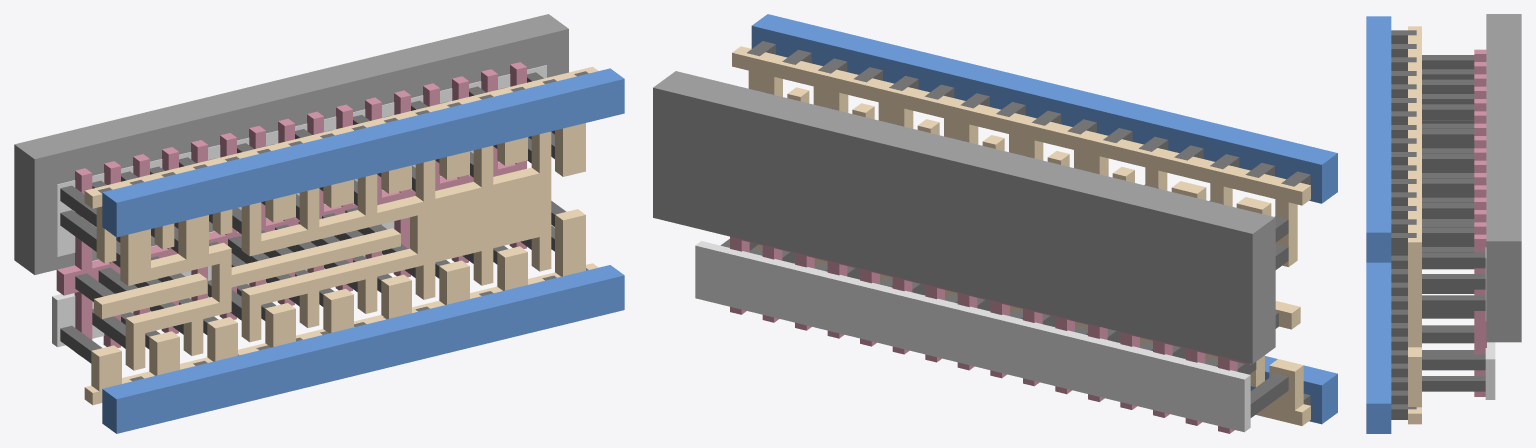
The model's file is sky130_fd_sc_hd__buf_12.gds.gltf.
3 views of the same model, side by side, from view 1: azimuth 30°, elevation 25°; view 2: azimuth 150°, elevation 25°; view 3: azimuth 270°, elevation 25° (orthographic). The views are drawn at different scales.
Visible parts, largest first — view 1: sky130_fd_sc_hd__buf_12_li1, sky130_fd_sc_hd__buf_12_met1, sky130_fd_sc_hd__buf_12_nwell, sky130_fd_sc_hd__buf_12_poly, sky130_fd_sc_hd__buf_12_licon, sky130_fd_sc_hd__buf_12_diff, sky130_fd_sc_hd__buf_12_mcon; view 2: sky130_fd_sc_hd__buf_12_nwell, sky130_fd_sc_hd__buf_12_diff, sky130_fd_sc_hd__buf_12_li1, sky130_fd_sc_hd__buf_12_met1, sky130_fd_sc_hd__buf_12_poly, sky130_fd_sc_hd__buf_12_mcon, sky130_fd_sc_hd__buf_12_licon; view 3: sky130_fd_sc_hd__buf_12_licon, sky130_fd_sc_hd__buf_12_nwell, sky130_fd_sc_hd__buf_12_met1, sky130_fd_sc_hd__buf_12_mcon, sky130_fd_sc_hd__buf_12_li1, sky130_fd_sc_hd__buf_12_poly, sky130_fd_sc_hd__buf_12_diff.
Part boxes in pixels (left/top/right/bottom): sky130_fd_sc_hd__buf_12_li1: left=84, top=66, right=598, bottom=405; sky130_fd_sc_hd__buf_12_met1: left=102, top=68, right=624, bottom=433; sky130_fd_sc_hd__buf_12_nwell: left=14, top=14, right=568, bottom=274; sky130_fd_sc_hd__buf_12_poly: left=56, top=62, right=526, bottom=356; sky130_fd_sc_hd__buf_12_licon: left=60, top=72, right=566, bottom=363; sky130_fd_sc_hd__buf_12_diff: left=52, top=65, right=546, bottom=347; sky130_fd_sc_hd__buf_12_mcon: left=98, top=71, right=588, bottom=381; sky130_fd_sc_hd__buf_12_nwell: left=653, top=71, right=1275, bottom=363; sky130_fd_sc_hd__buf_12_diff: left=695, top=241, right=1250, bottom=432; sky130_fd_sc_hd__buf_12_li1: left=732, top=46, right=1310, bottom=425; sky130_fd_sc_hd__buf_12_met1: left=751, top=14, right=1337, bottom=424; sky130_fd_sc_hd__buf_12_poly: left=730, top=236, right=1250, bottom=433; sky130_fd_sc_hd__buf_12_mcon: left=747, top=41, right=1310, bottom=405; sky130_fd_sc_hd__buf_12_licon: left=720, top=89, right=1288, bottom=417; sky130_fd_sc_hd__buf_12_licon: left=1422, top=55, right=1485, bottom=391; sky130_fd_sc_hd__buf_12_nwell: left=1486, top=14, right=1521, bottom=342; sky130_fd_sc_hd__buf_12_met1: left=1366, top=16, right=1391, bottom=433; sky130_fd_sc_hd__buf_12_mcon: left=1391, top=30, right=1416, bottom=419; sky130_fd_sc_hd__buf_12_li1: left=1408, top=26, right=1421, bottom=424; sky130_fd_sc_hd__buf_12_poly: left=1474, top=49, right=1486, bottom=396; sky130_fd_sc_hd__buf_12_diff: left=1485, top=247, right=1495, bottom=399.
Size of the model in its own units: 7.74 by 3.2 by 2.24.
